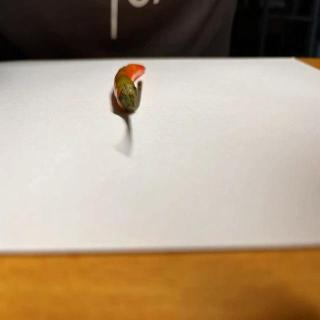Cabai Merah: (114, 64, 147, 114)
